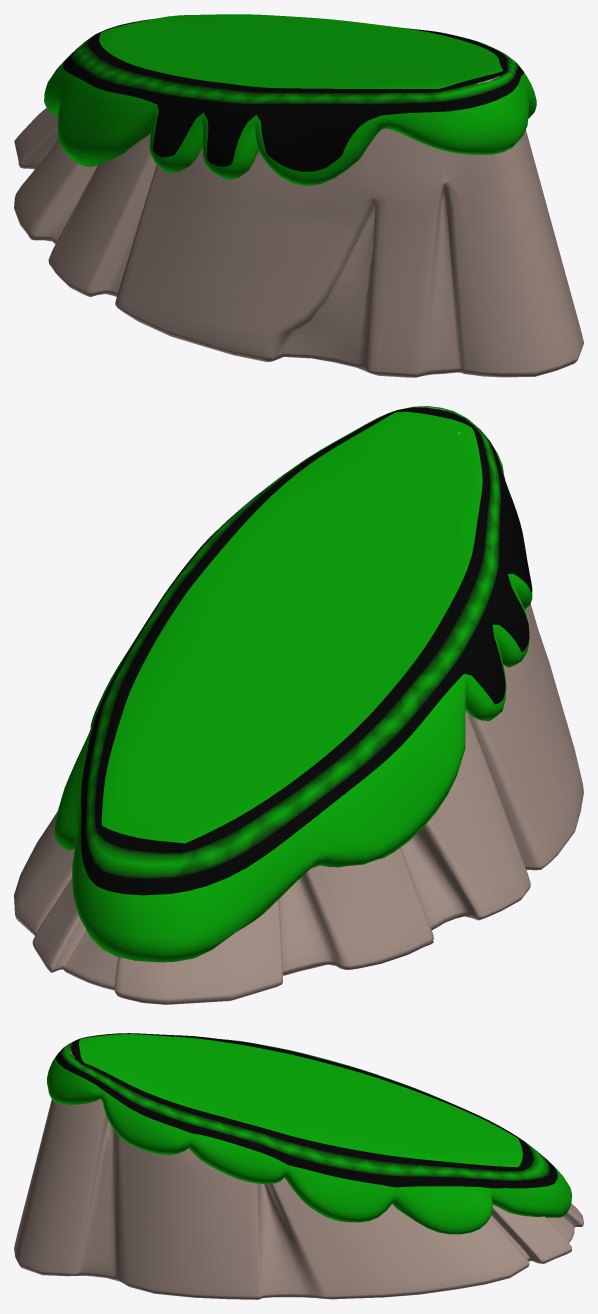
File: SM_20007Morrinho.fbx
3 views of the same model, one above another, from view 1: azimuth 30°, elevation 25°; view 2: azimuth 150°, elevation 25°; view 3: azimuth 270°, elevation 25° (orthographic). The views are drawn at different scales.
Parts seen in each view (by area): view 1: SM_20007Morrinho_geo_2, SM_20007Morrinho_geo_1; view 2: SM_20007Morrinho_geo_1, SM_20007Morrinho_geo_2; view 3: SM_20007Morrinho_geo_1, SM_20007Morrinho_geo_2.
Boxes of the visible parts, box(x1,y1,x2,y2) form: SM_20007Morrinho_geo_2: box(14, 76, 583, 377); SM_20007Morrinho_geo_1: box(44, 14, 536, 185); SM_20007Morrinho_geo_1: box(54, 406, 532, 962); SM_20007Morrinho_geo_2: box(14, 407, 583, 1004); SM_20007Morrinho_geo_1: box(47, 1033, 571, 1234); SM_20007Morrinho_geo_2: box(14, 1041, 583, 1299).
Bounding box in the file's own units: 246 × 161 × 420.
